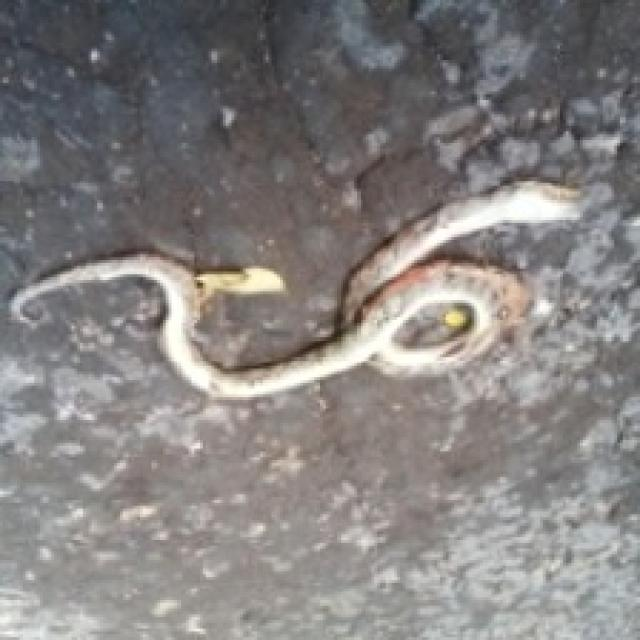reticulated python: (11, 180, 580, 397)
